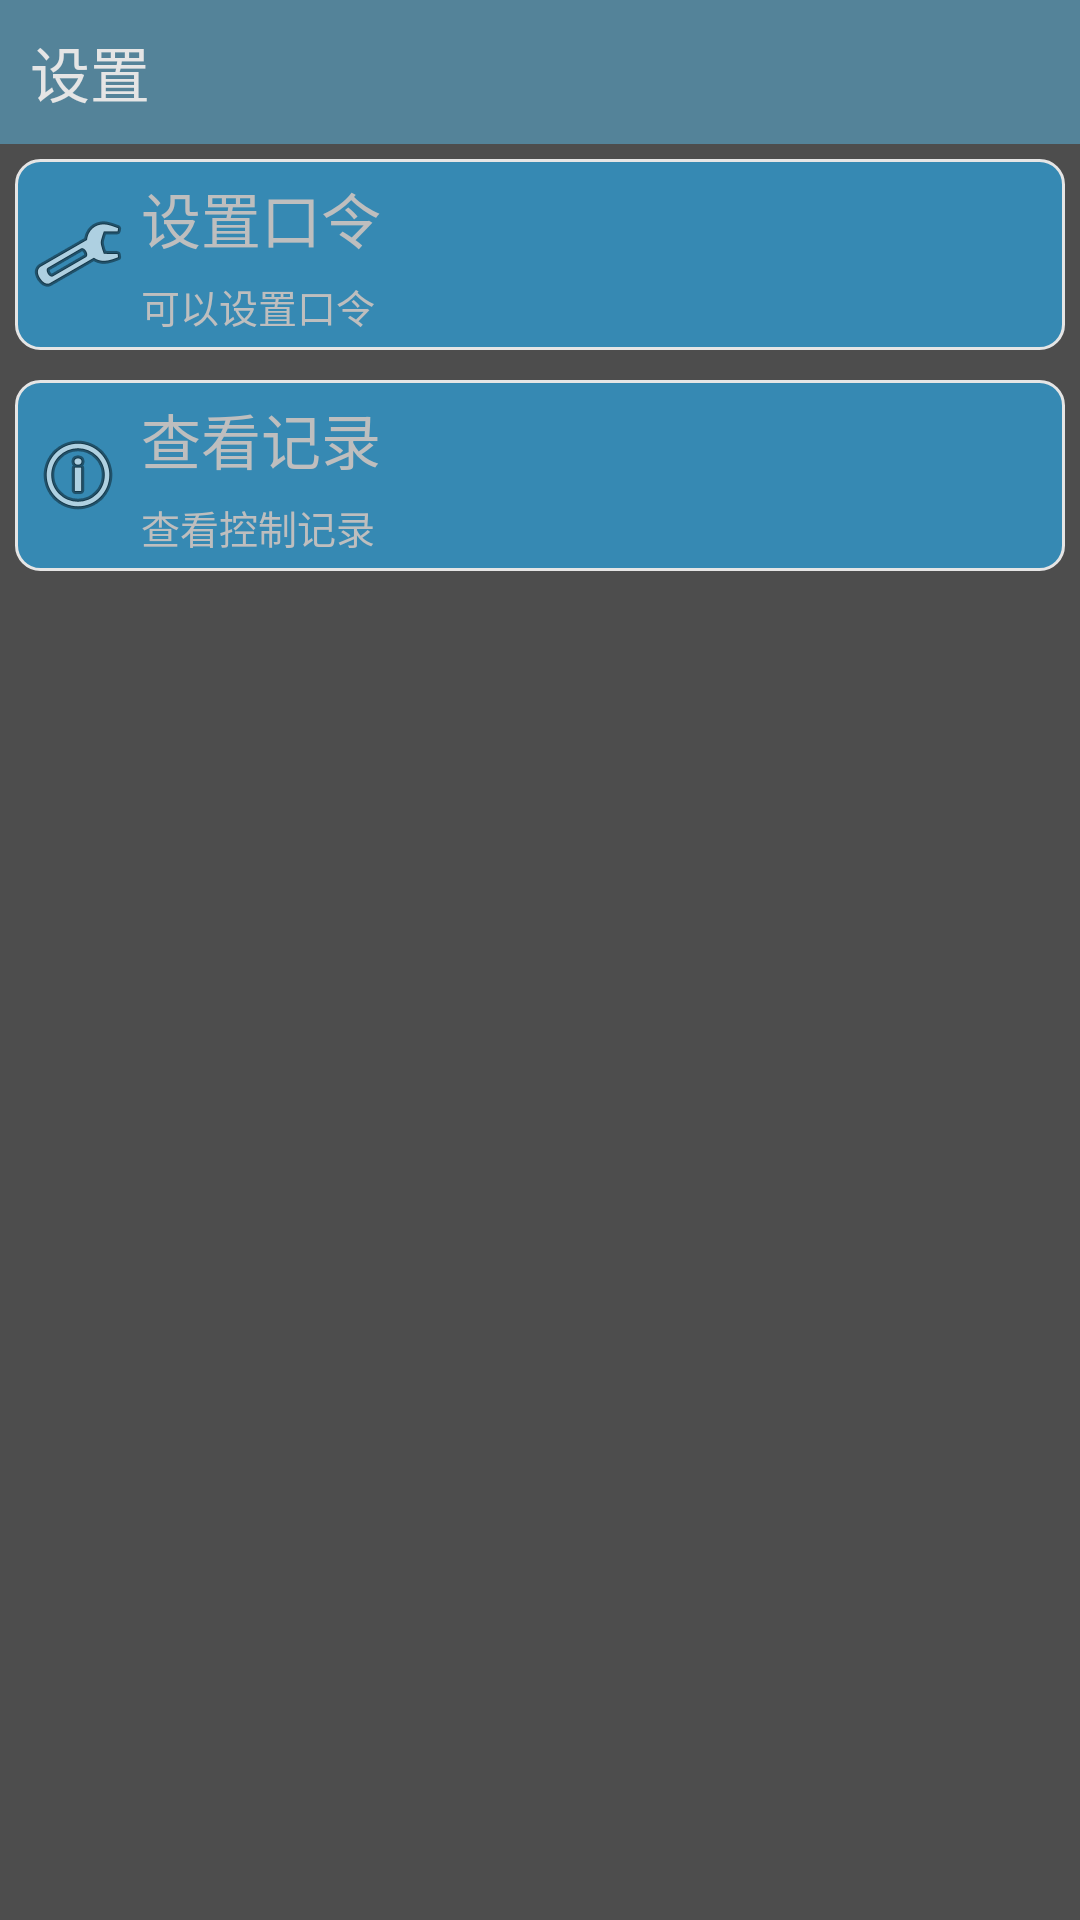

Screen size 1080px×1920px. Icon name, then its box in pixels as bbox=[x1, y1, x2, y2]:
info details: bbox=[44, 441, 112, 509]
manage: bbox=[35, 221, 121, 287]
